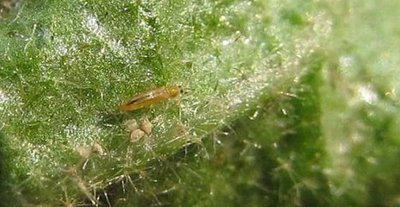tiny_pests: (108, 71, 188, 117)
